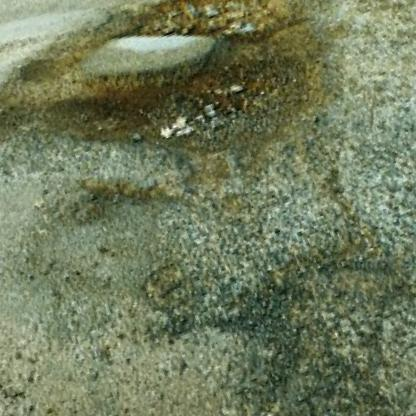pothole: (14, 0, 332, 208), (91, 0, 300, 95)
